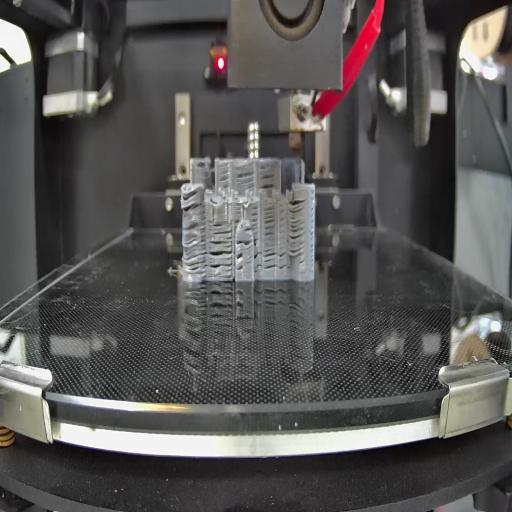cracks: (183, 222, 207, 278), (288, 198, 306, 263), (209, 238, 233, 278), (182, 189, 202, 213), (258, 164, 276, 190), (264, 206, 275, 238), (264, 246, 278, 270), (218, 170, 232, 190), (213, 222, 231, 236), (254, 238, 261, 272), (236, 170, 255, 181), (279, 245, 287, 270), (236, 237, 254, 246), (251, 205, 258, 228), (235, 203, 242, 225), (236, 252, 243, 272), (244, 228, 253, 232)
